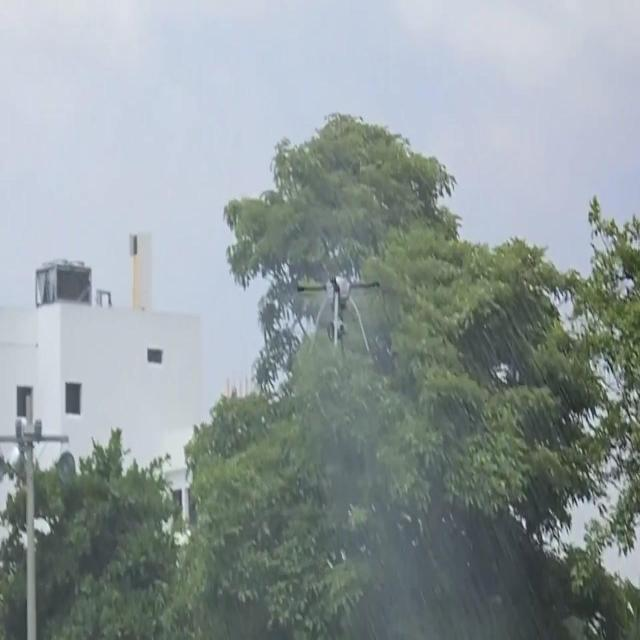drone: (295, 269, 382, 363)
